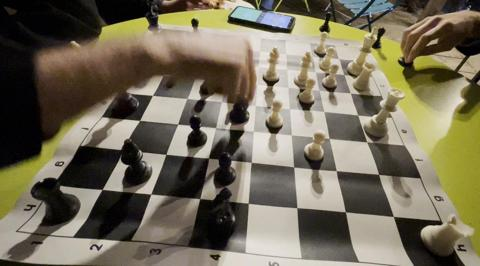xcorner: (243, 192, 254, 203), (203, 149, 214, 160), (133, 112, 144, 123), (361, 131, 372, 142), (166, 51, 177, 62), (195, 54, 206, 65), (227, 42, 238, 53), (280, 47, 291, 58), (145, 185, 156, 195), (292, 196, 302, 207), (387, 204, 398, 214), (117, 142, 127, 153), (160, 146, 171, 156), (246, 153, 257, 163), (289, 156, 299, 167), (373, 163, 383, 174), (172, 115, 182, 126), (210, 119, 221, 129), (248, 122, 259, 132), (286, 125, 297, 135), (324, 128, 334, 139), (146, 88, 157, 98), (181, 91, 192, 101), (250, 97, 261, 107), (284, 100, 295, 110), (318, 103, 329, 113), (157, 68, 168, 78), (220, 74, 231, 84), (252, 76, 262, 87), (283, 79, 293, 90), (344, 85, 355, 95), (253, 59, 263, 70), (281, 62, 292, 72), (310, 64, 320, 75), (174, 37, 184, 48), (306, 50, 317, 60), (96, 181, 106, 191), (195, 189, 205, 199), (340, 200, 350, 210), (331, 160, 341, 170), (216, 94, 226, 104), (352, 106, 362, 116), (189, 71, 199, 81), (314, 82, 324, 92), (224, 57, 234, 67), (338, 67, 348, 77), (201, 40, 211, 50), (254, 45, 264, 55), (333, 52, 343, 62)
